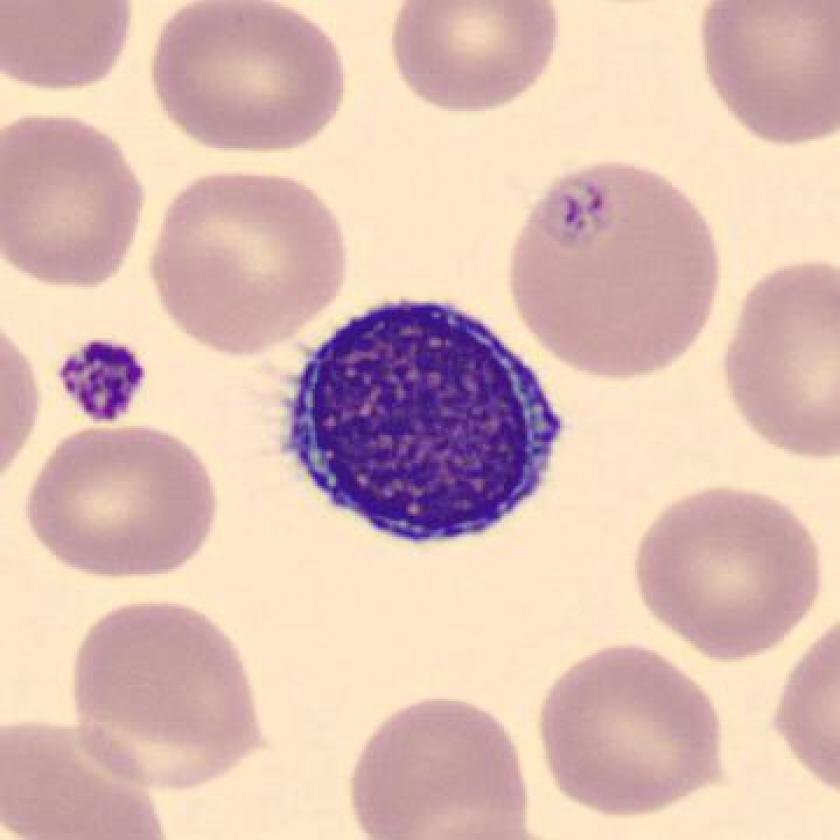lymphocyte: (267, 286, 577, 563)
